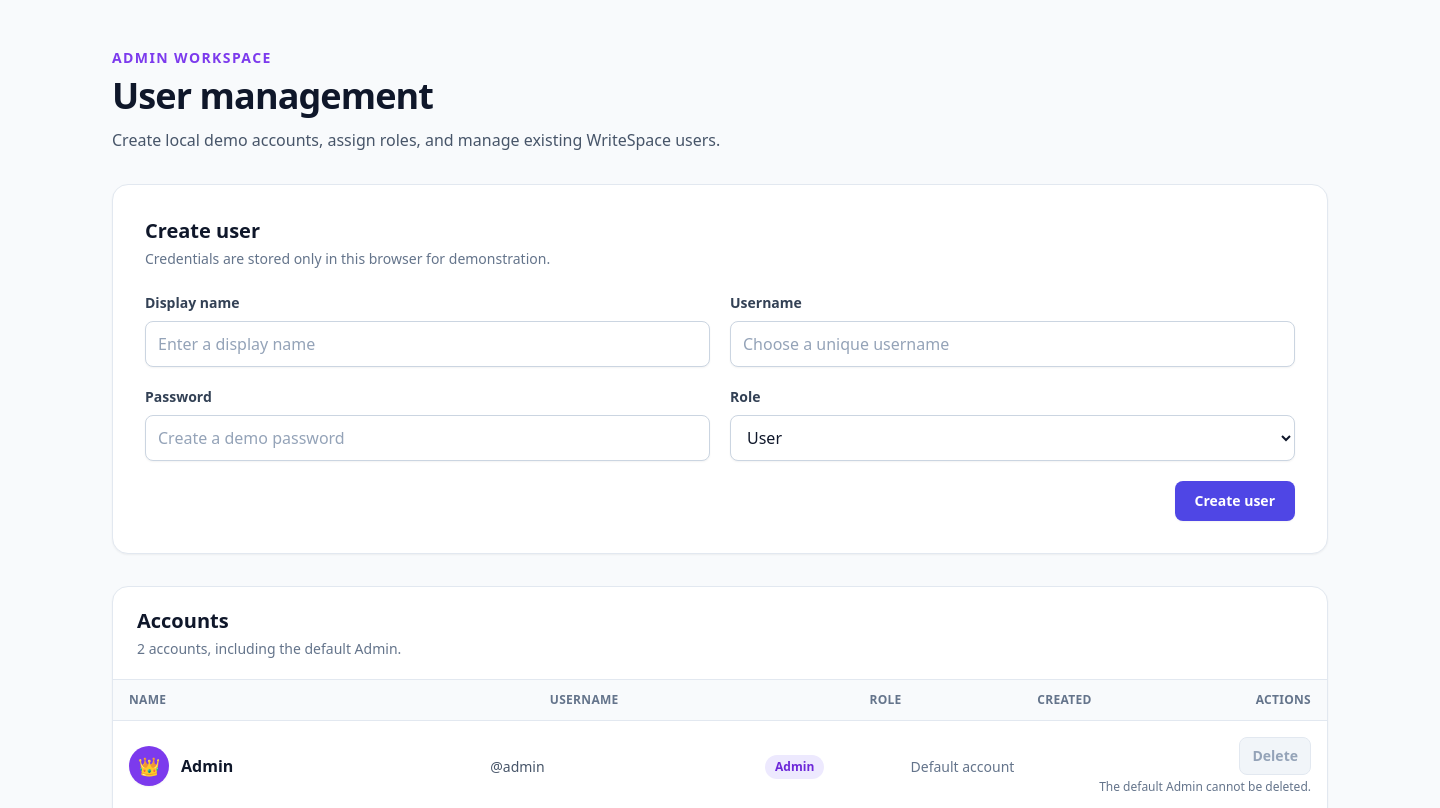
Scenario: UserManagement account creation › rejects a stored username without changing stored users
Step 1. Type "Duplicate Account" into the field labelled "Display name" → {"x": 428, "y": 344}, box [145,321,710,367]
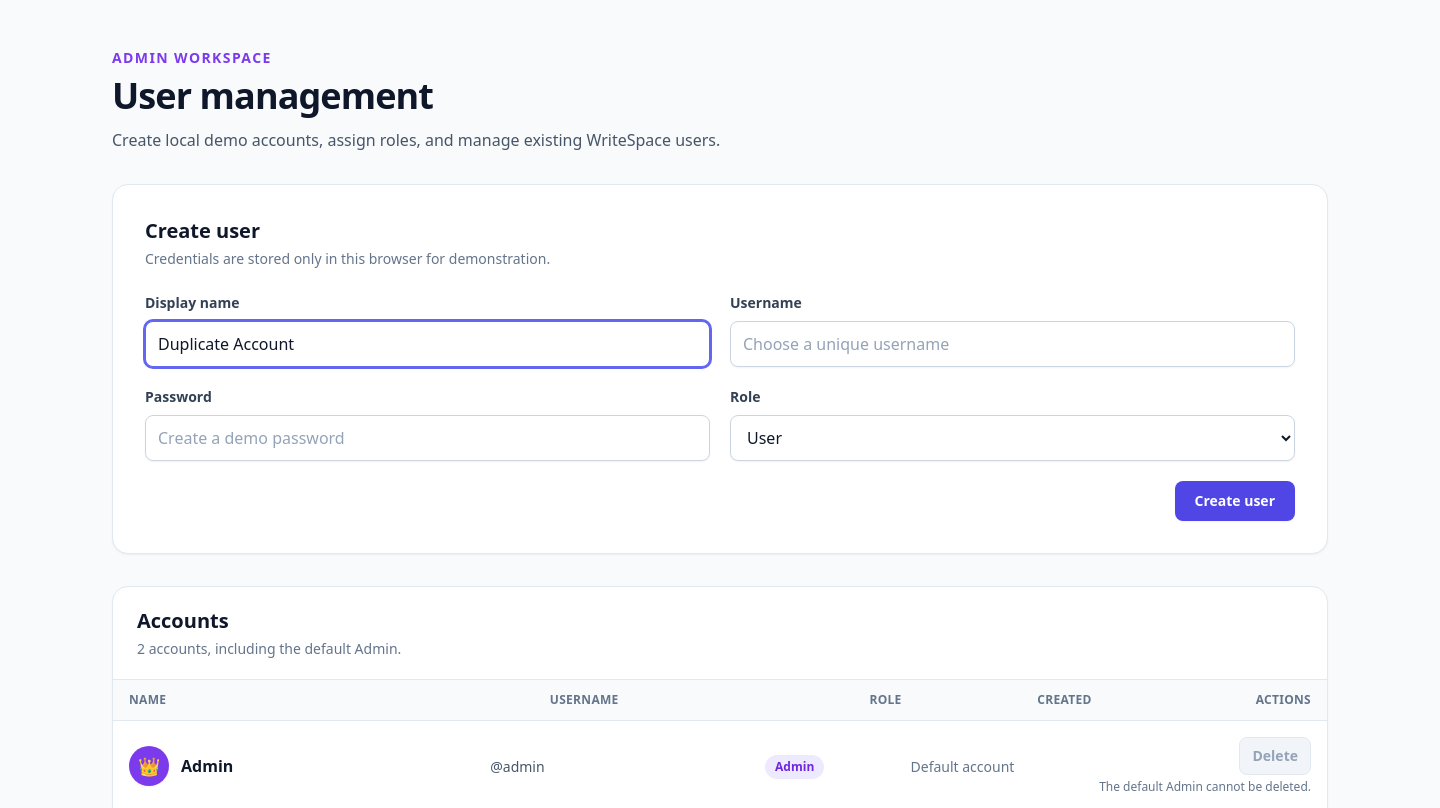
Step 2. Type "alice" into the field labelled "Username" → {"x": 1012, "y": 344}, box [730,321,1295,367]
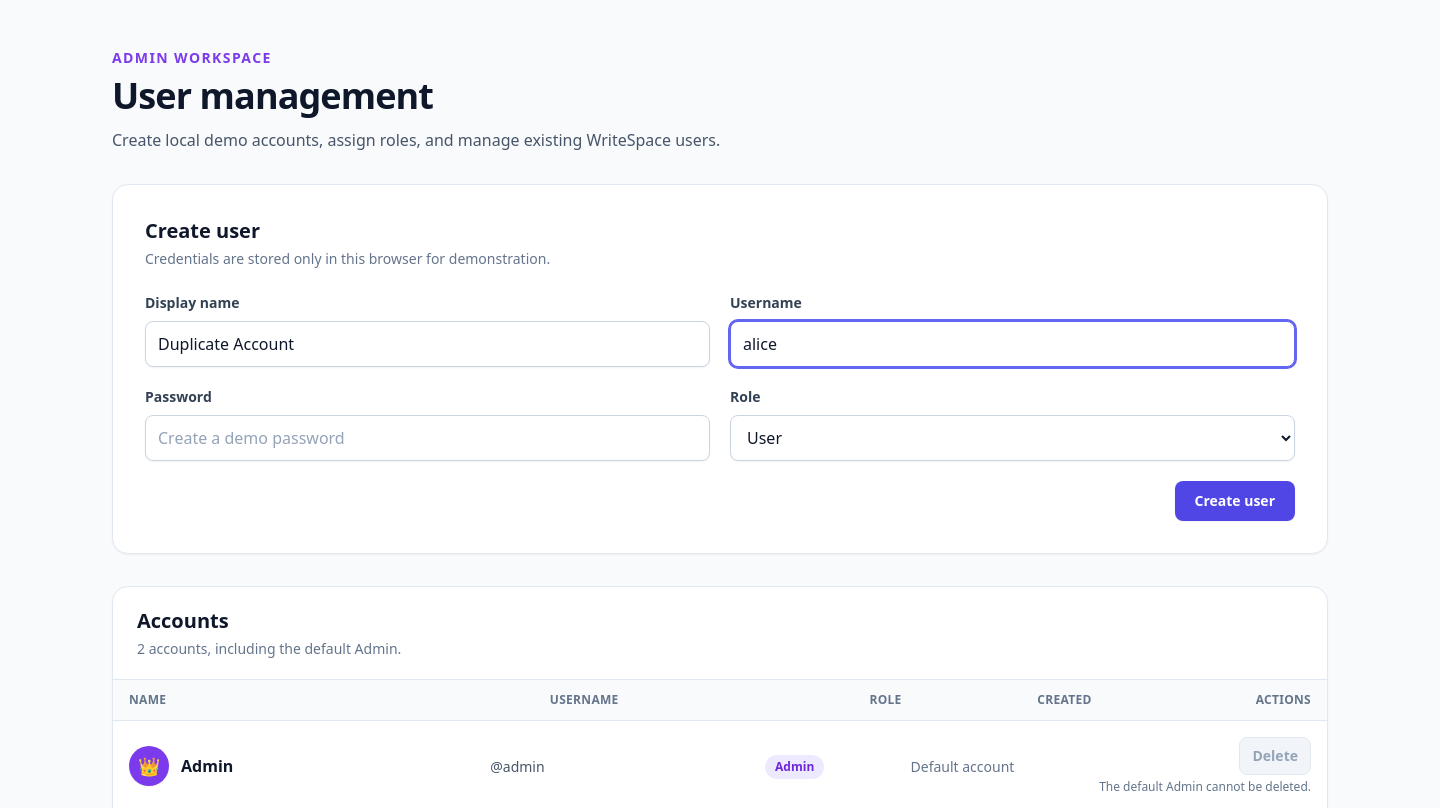
Step 3. Type "demo-password" into the password field labelled "Password" → {"x": 428, "y": 438}, box [145,415,710,461]
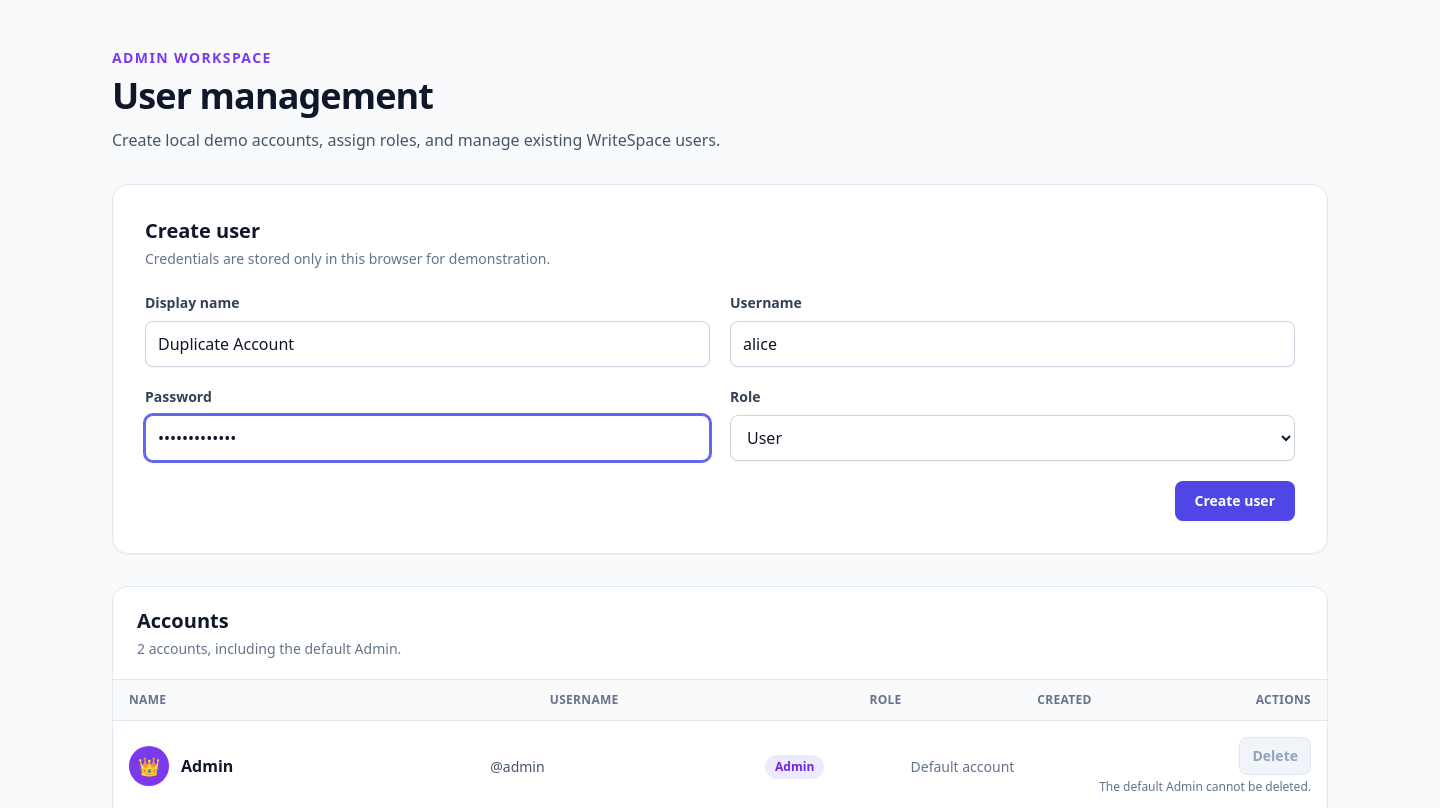
Step 4. Select "User" in the dropdown labelled "Role" → {"x": 1012, "y": 438}, box [730,415,1295,461]
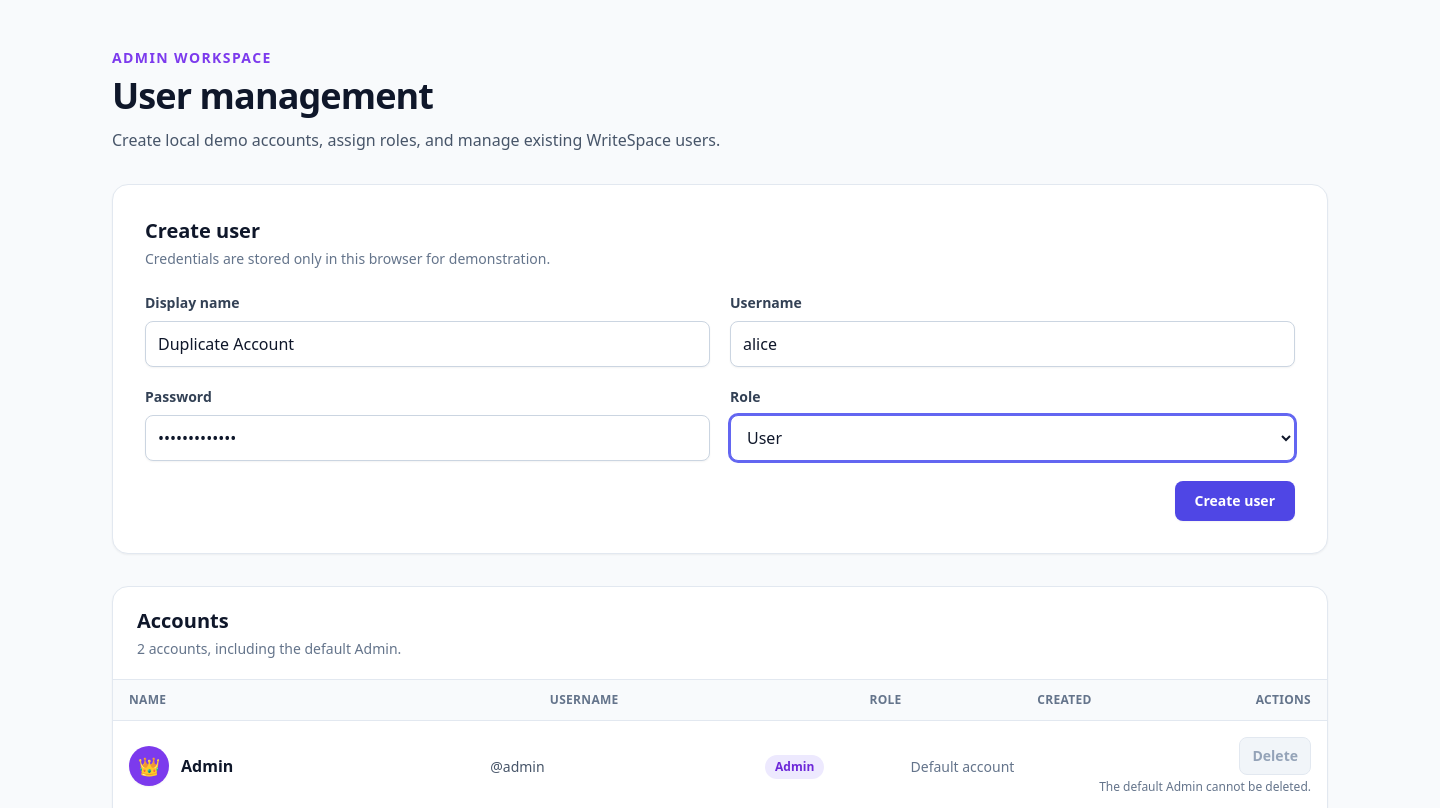
Step 5. Click the button "Create user" → {"x": 1235, "y": 501}, box [1174,481,1295,521]
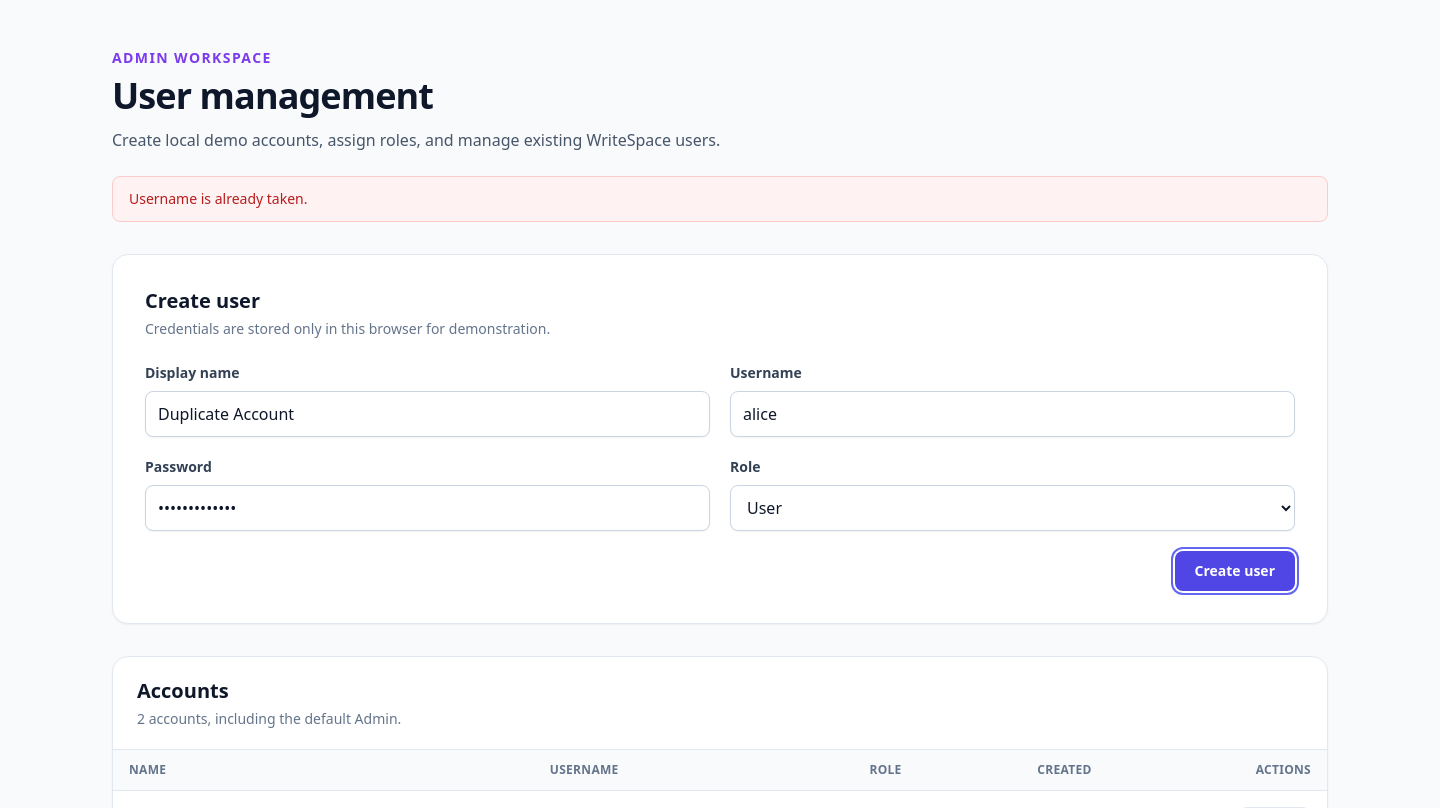
Expected: the message reads "Username is already taken.", [129,189,308,208]
